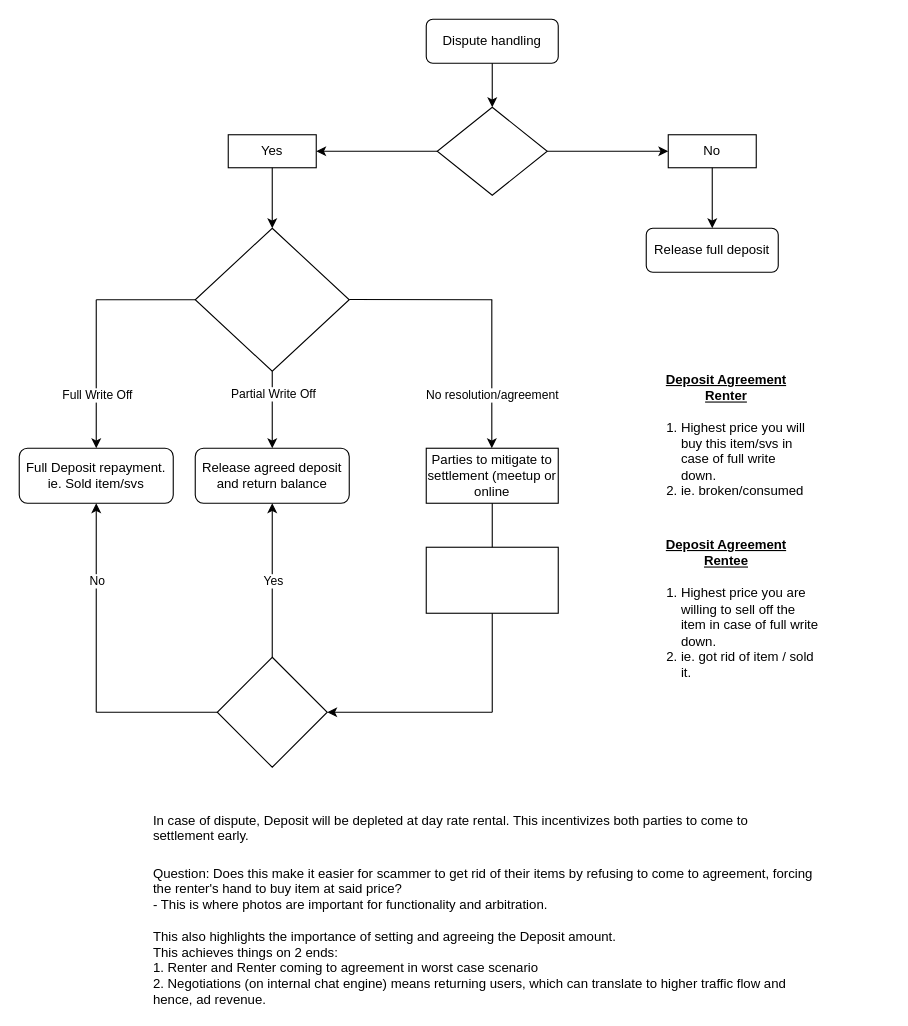
Some shapes in this 908 by 1026 pixel diagram are drawn without their labels. The centre of each missing label's shape, as x and y in pixels:
Deposit is depleted at day rental rate: pixel 491 579
Dispute resolution possible outcomes: pixel 271 299
Is there a dispute?: pixel 491 150
Settlement agreed before depletion?: pixel 271 711
